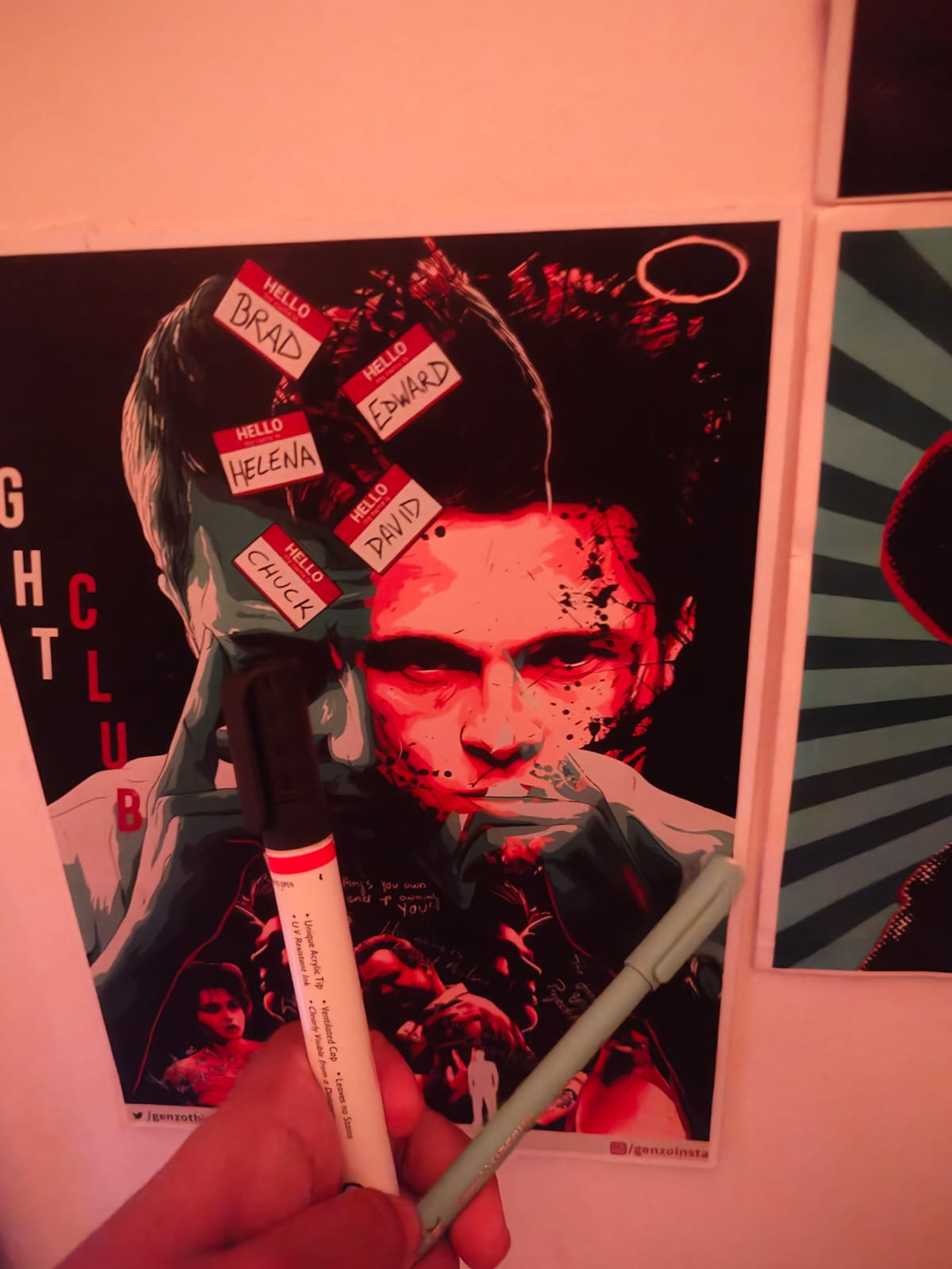case: (212, 648, 405, 1196)
pen: (409, 851, 776, 1257)
